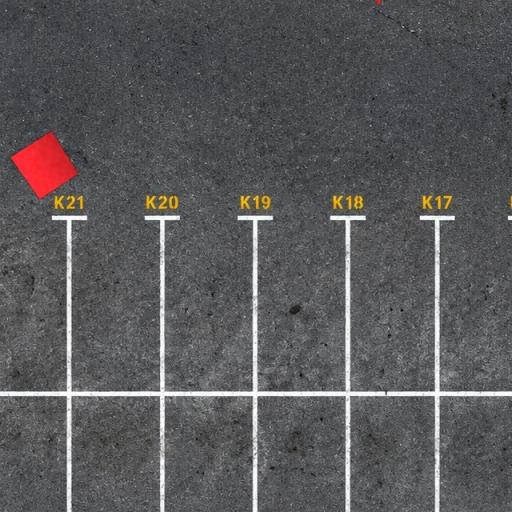RED_SQUARE: (10, 130, 79, 201)
